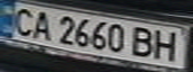0: (106, 21, 130, 54)
2: (51, 13, 78, 46)
6: (72, 17, 93, 48), (90, 20, 109, 52)
A: (27, 9, 57, 42)
B: (127, 25, 160, 58)
C: (6, 6, 39, 37)
H: (148, 28, 184, 63)
